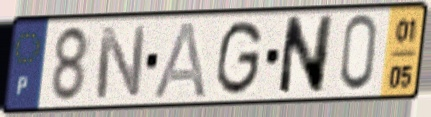0: (337, 12, 380, 96)
8: (50, 24, 92, 105)
A: (150, 19, 209, 101)
G: (213, 18, 265, 98)
N: (275, 13, 337, 99), (93, 24, 149, 102)
